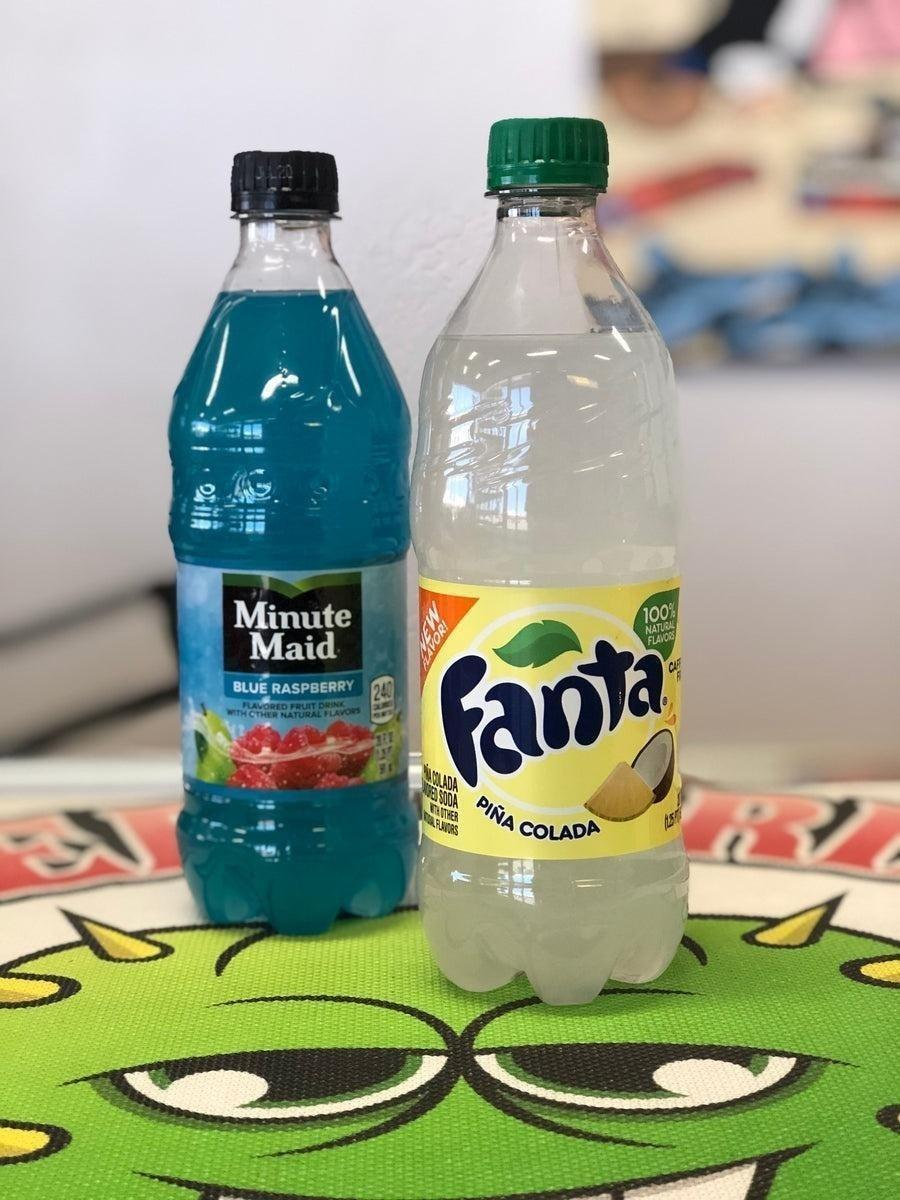bottle-plastic: (406, 110, 693, 1011), (162, 139, 420, 940)
